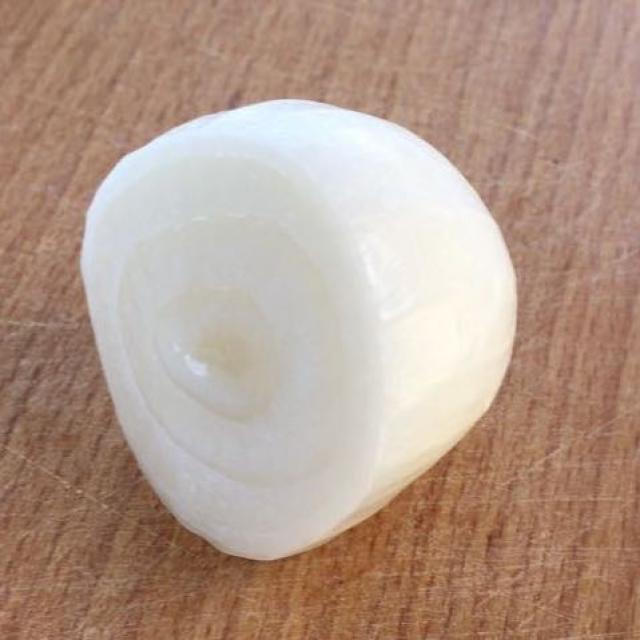onion: (71, 90, 521, 562)
